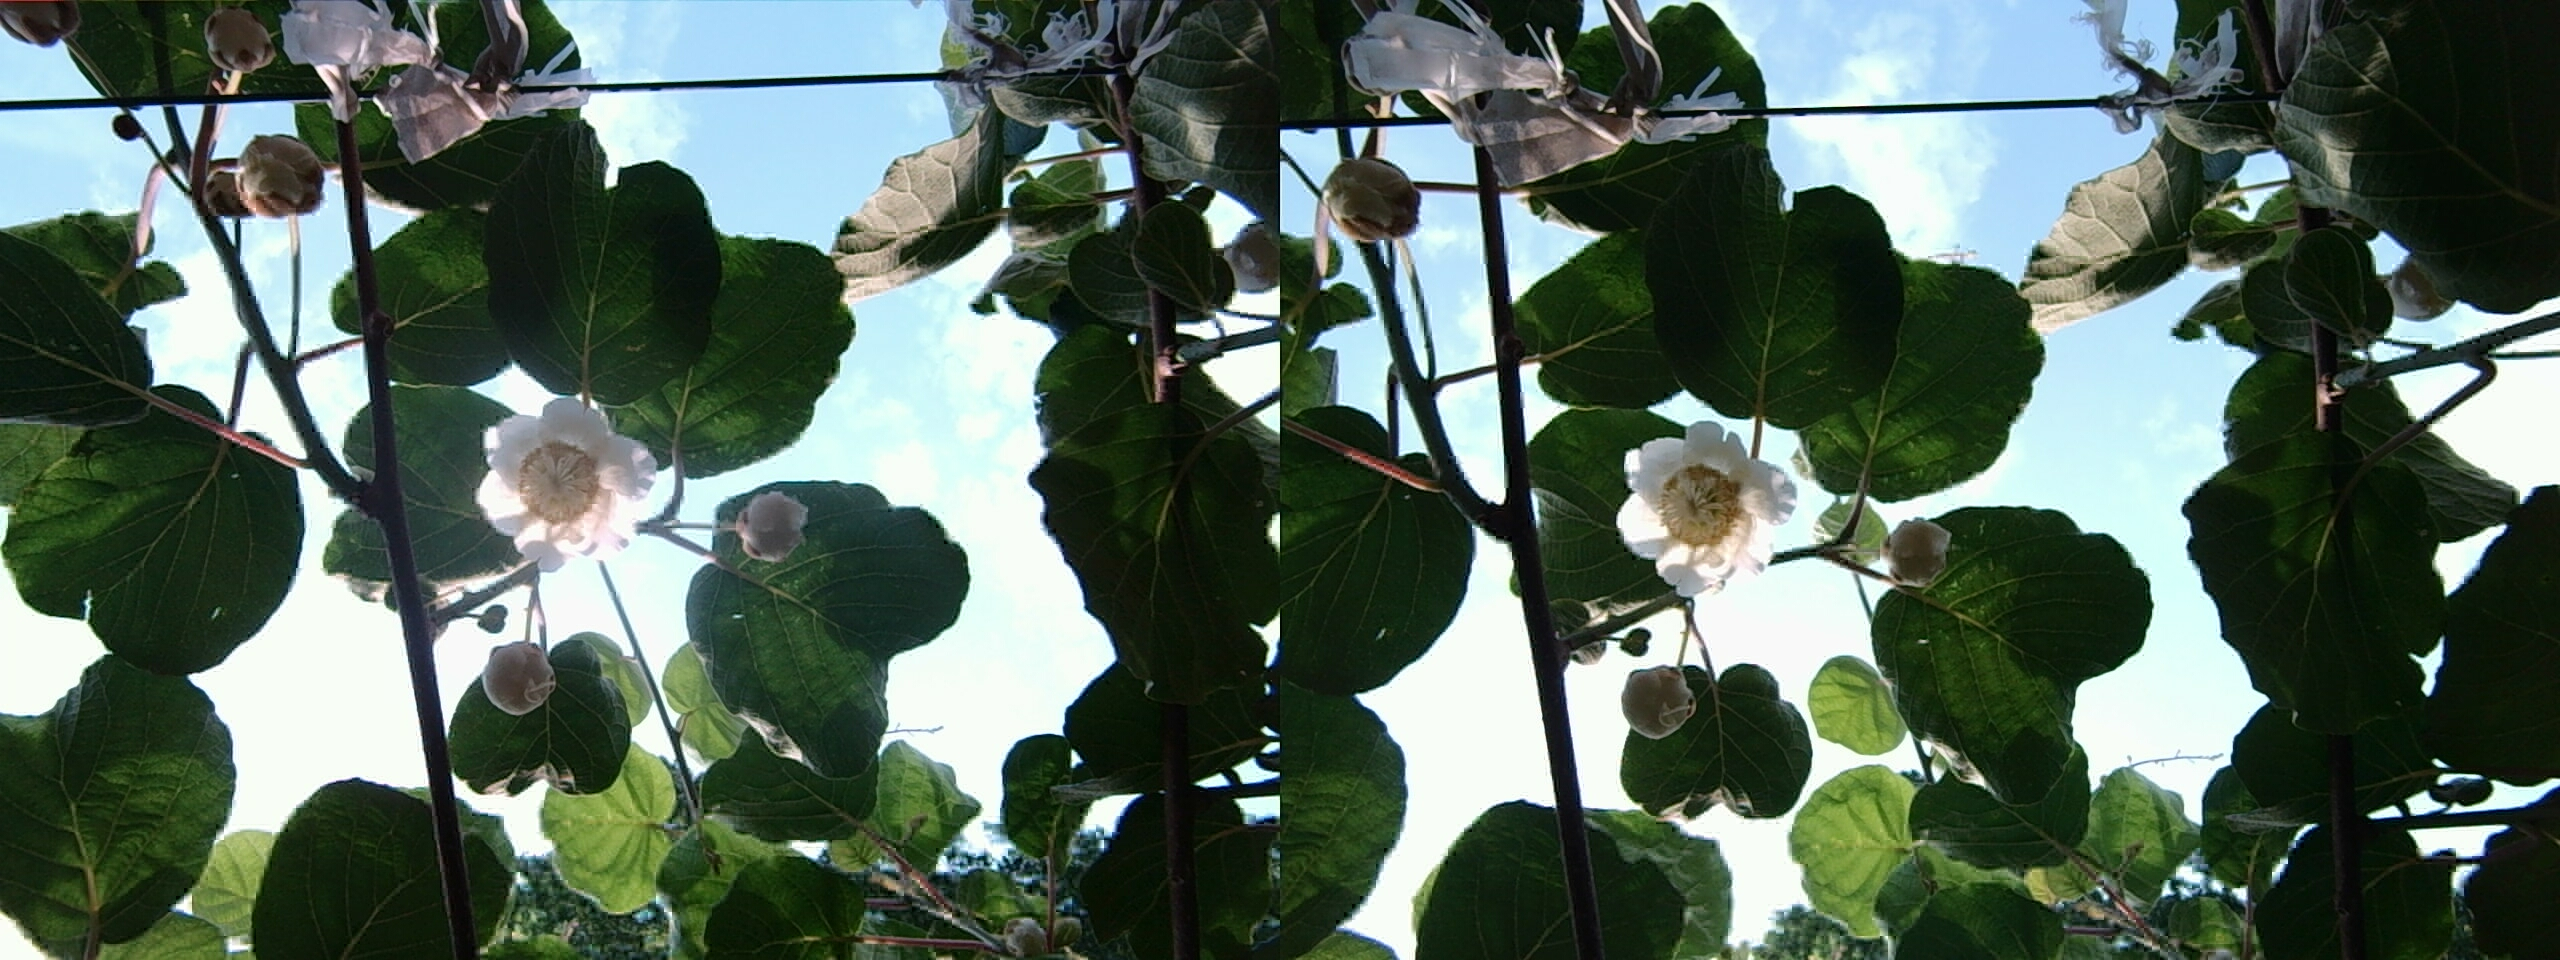flower: (1610, 408, 1799, 586), (470, 390, 664, 558)
